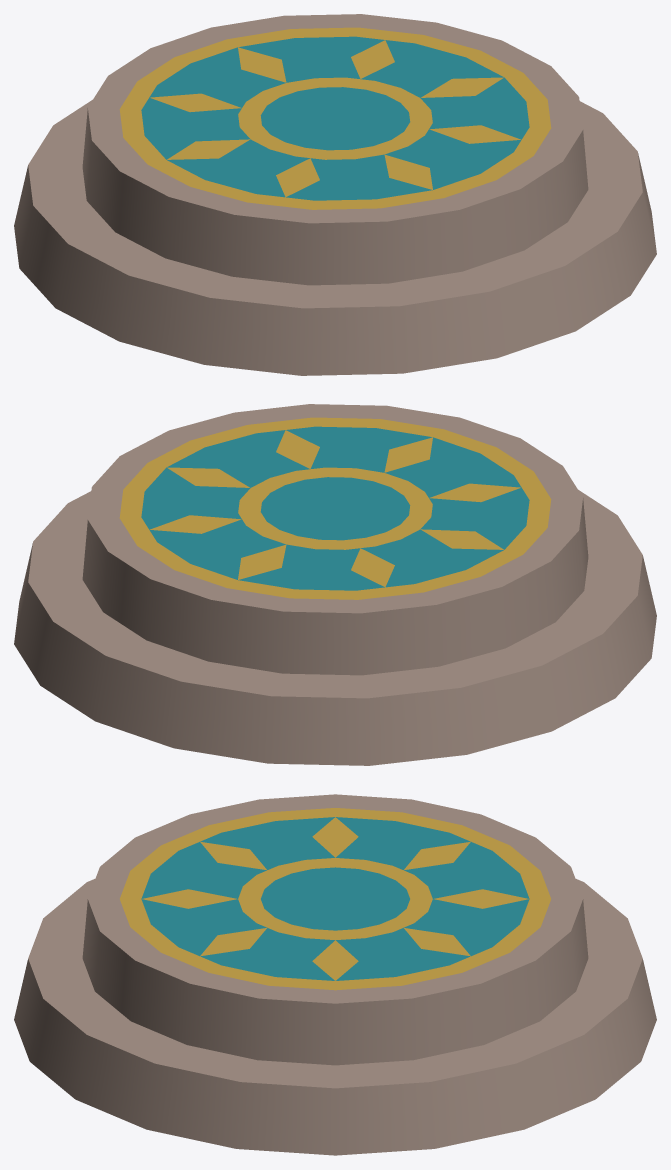
The model's file is Altar test.fbx.
3 views of the same model, one above another, from view 1: azimuth 30°, elevation 25°; view 2: azimuth 150°, elevation 25°; view 3: azimuth 270°, elevation 25° (orthographic).
Visible parts, largest first — view 1: Altar; view 2: Altar; view 3: Altar.
Part boxes in pixels (box(x1,y1,x2,y2)): Altar: box(14, 14, 656, 375); Altar: box(14, 404, 656, 765); Altar: box(14, 794, 656, 1155).
Size of the model in its own units: 121 by 25 by 121.
